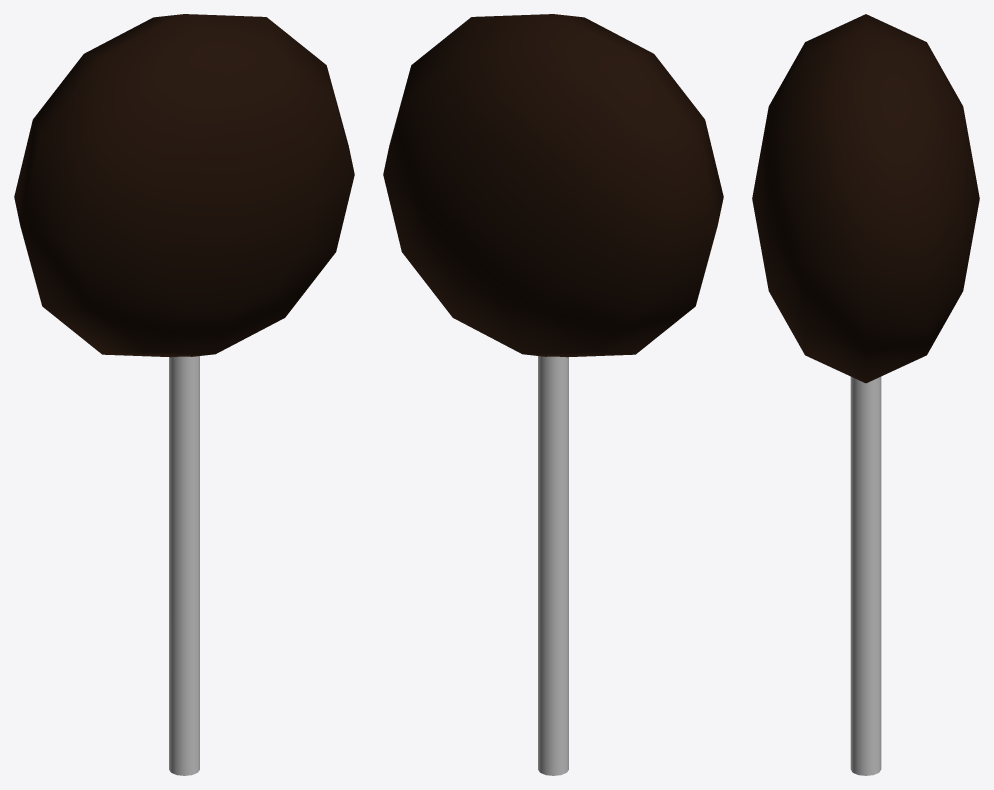
Rendered from 3D_LollyPop_Circle_Brown.FBX.
3 views of the same model, side by side, from view 1: azimuth 30°, elevation 25°; view 2: azimuth 150°, elevation 25°; view 3: azimuth 270°, elevation 25° (orthographic). The views are drawn at different scales.
Parts seen in each view (by area): view 1: 3D_LollyPop_Circle_Brown; view 2: 3D_LollyPop_Circle_Brown; view 3: 3D_LollyPop_Circle_Brown.
Part boxes in pixels (x1,y1,x2,y2): 3D_LollyPop_Circle_Brown: [14, 14, 354, 775]; 3D_LollyPop_Circle_Brown: [383, 14, 723, 775]; 3D_LollyPop_Circle_Brown: [752, 14, 979, 775].
Size of the model in its own units: 29.66 by 65.19 by 18.21.
